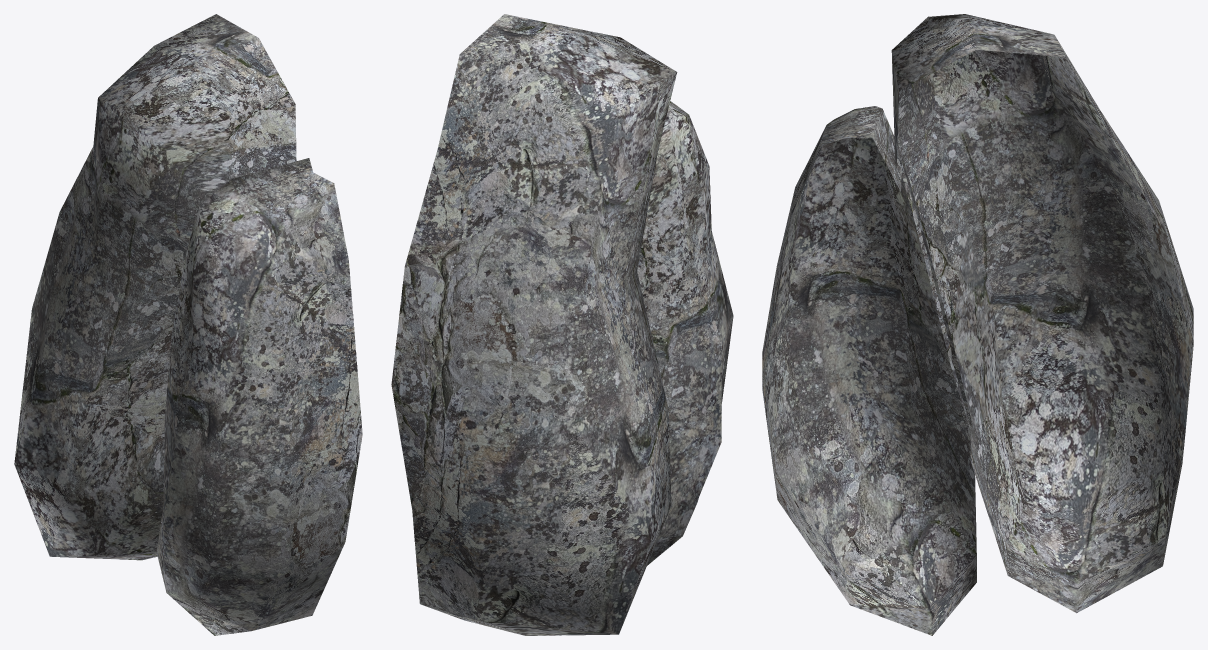
The model's file is RockCliffLarge3.glb.
3 views of the same model, side by side, from view 1: azimuth 30°, elevation 25°; view 2: azimuth 150°, elevation 25°; view 3: azimuth 270°, elevation 25° (orthographic). The views are drawn at different scales.
Parts seen in each view (by area): view 1: RockCliffLarge3; view 2: RockCliffLarge3; view 3: RockCliffLarge3.
Boxes of the visible parts, x1,y1,x2,y2 form: RockCliffLarge3: [14, 14, 362, 635]; RockCliffLarge3: [391, 14, 733, 635]; RockCliffLarge3: [762, 14, 1193, 635].
Size of the model in its own units: 6.66 by 18.29 by 12.06.
1 material, 1 textured.
